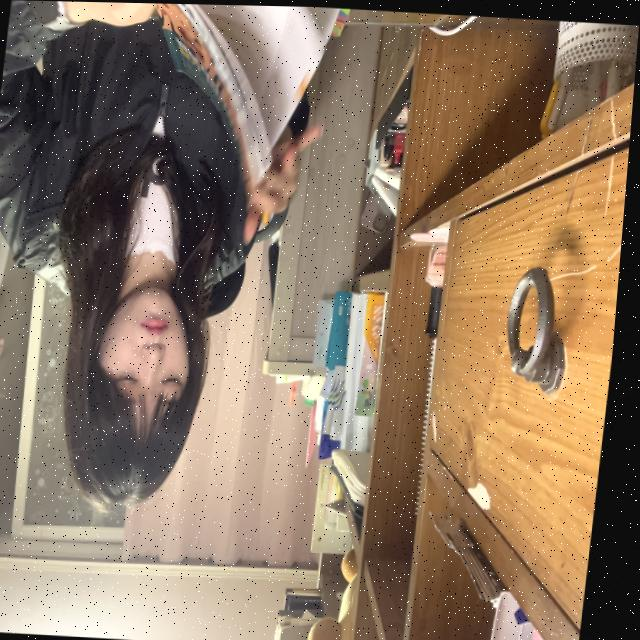studying-person: (0, 0, 366, 528)
